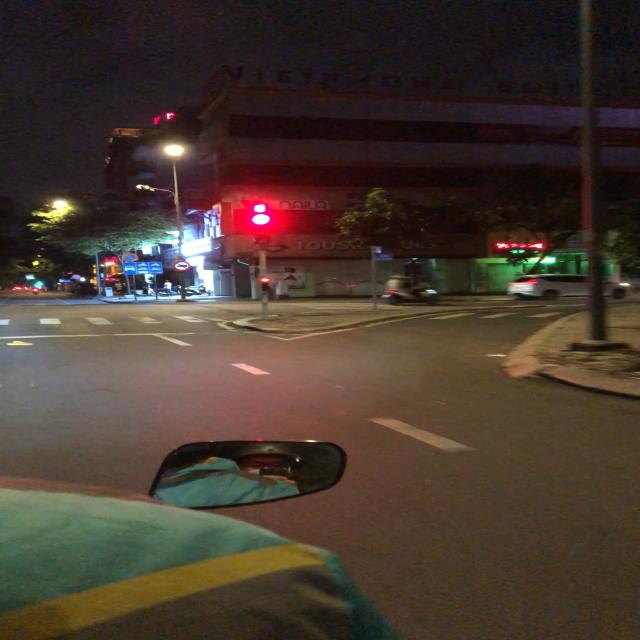Bien bao cam xe so-mi ro-mooc: (170, 259, 195, 273)
